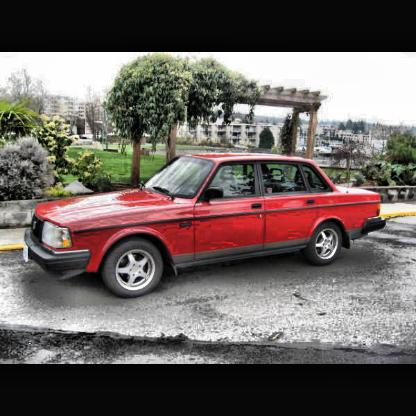Volvo 240 Sedan 1993: (26, 151, 387, 304)
